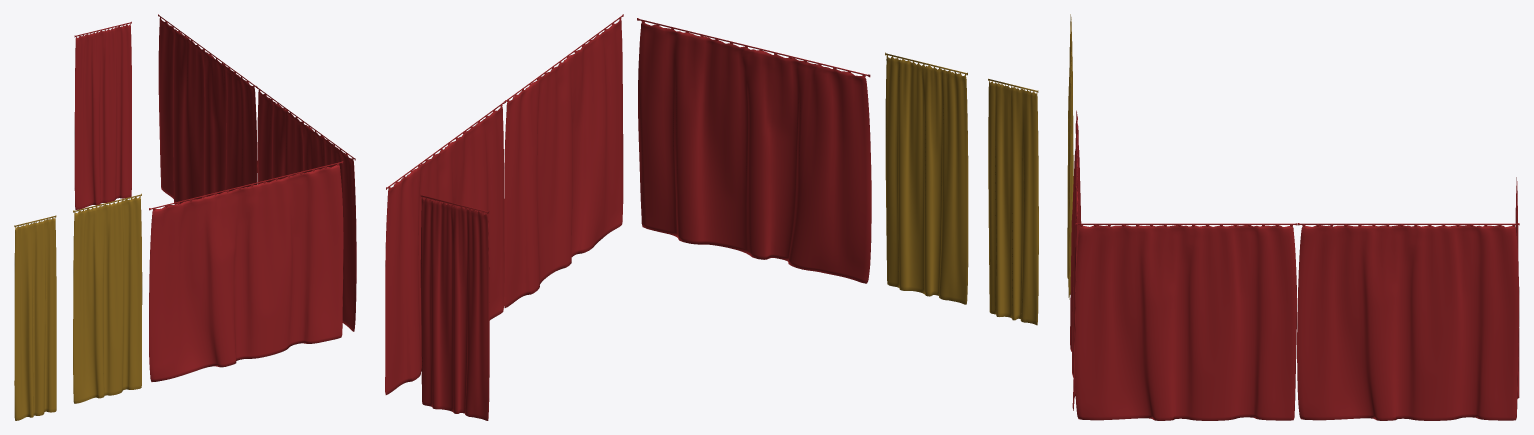
Rendered from Cortinas.fbx.
3 views of the same model, side by side, from view 1: azimuth 30°, elevation 25°; view 2: azimuth 150°, elevation 25°; view 3: azimuth 270°, elevation 25° (orthographic). The views are drawn at different scales.
Visible parts, largest first — view 1: Curtain_Yellow.001, Curtain_Yellow.002, Curtain_Yellow.004, Curtain_Yellow, Curtain_Yellow.005, Curtain_Yellow.003; view 2: Curtain_Yellow.001, Curtain_Yellow.003, Curtain_Yellow.004, Curtain_Yellow.002, Curtain_Yellow, Curtain_Yellow.005; view 3: Curtain_Yellow.002, Curtain_Yellow.003, Curtain_Yellow.001, Curtain_Yellow.004.
Part boxes in pixels (left/top/right/bottom): Curtain_Yellow.001: left=149, top=161, right=343, bottom=381; Curtain_Yellow.002: left=158, top=14, right=257, bottom=204; Curtain_Yellow.004: left=73, top=193, right=142, bottom=403; Curtain_Yellow: left=74, top=21, right=131, bottom=209; Curtain_Yellow.005: left=14, top=215, right=56, bottom=420; Curtain_Yellow.003: left=256, top=86, right=356, bottom=331; Curtain_Yellow.001: left=637, top=18, right=871, bottom=283; Curtain_Yellow.003: left=504, top=14, right=623, bottom=307; Curtain_Yellow.004: left=885, top=52, right=968, bottom=304; Curtain_Yellow.002: left=385, top=101, right=504, bottom=394; Curtain_Yellow: left=420, top=194, right=489, bottom=420; Curtain_Yellow.005: left=988, top=78, right=1038, bottom=325; Curtain_Yellow.002: left=1297, top=223, right=1519, bottom=420; Curtain_Yellow.003: left=1074, top=223, right=1297, bottom=420; Curtain_Yellow.001: left=1070, top=110, right=1081, bottom=410; Curtain_Yellow.004: left=1067, top=46, right=1073, bottom=299.
Size of the model in its own units: 809 by 438 by 813.
